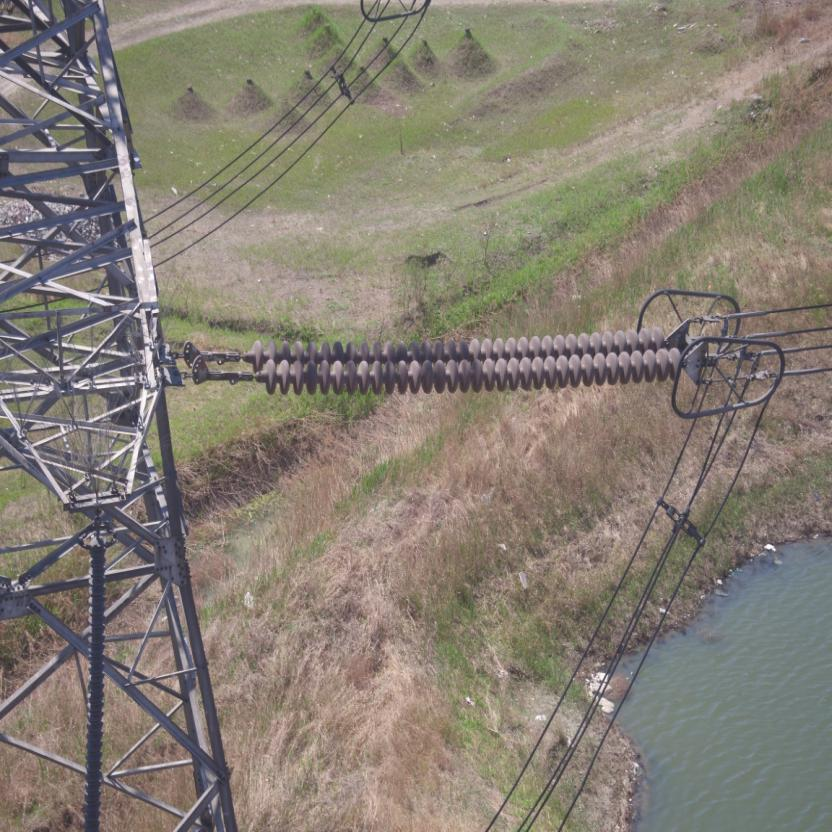insulator: (219, 324, 696, 396)
